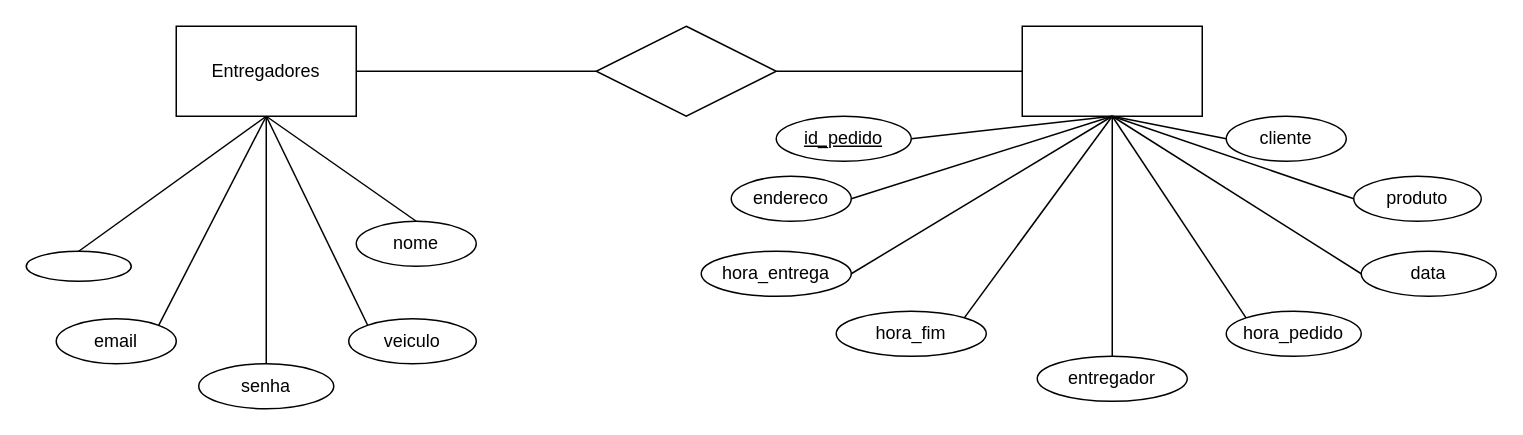
Image size: 1523x435. Some labels were removed from this diagram. The shapes that lost their labels are listed below. From the top down, each one's box as (x1, y1, x2, y2) in pixels, then its label:
(595, 25, 776, 116): entregam
(1021, 25, 1202, 116): pedidos
(25, 250, 131, 281): id
